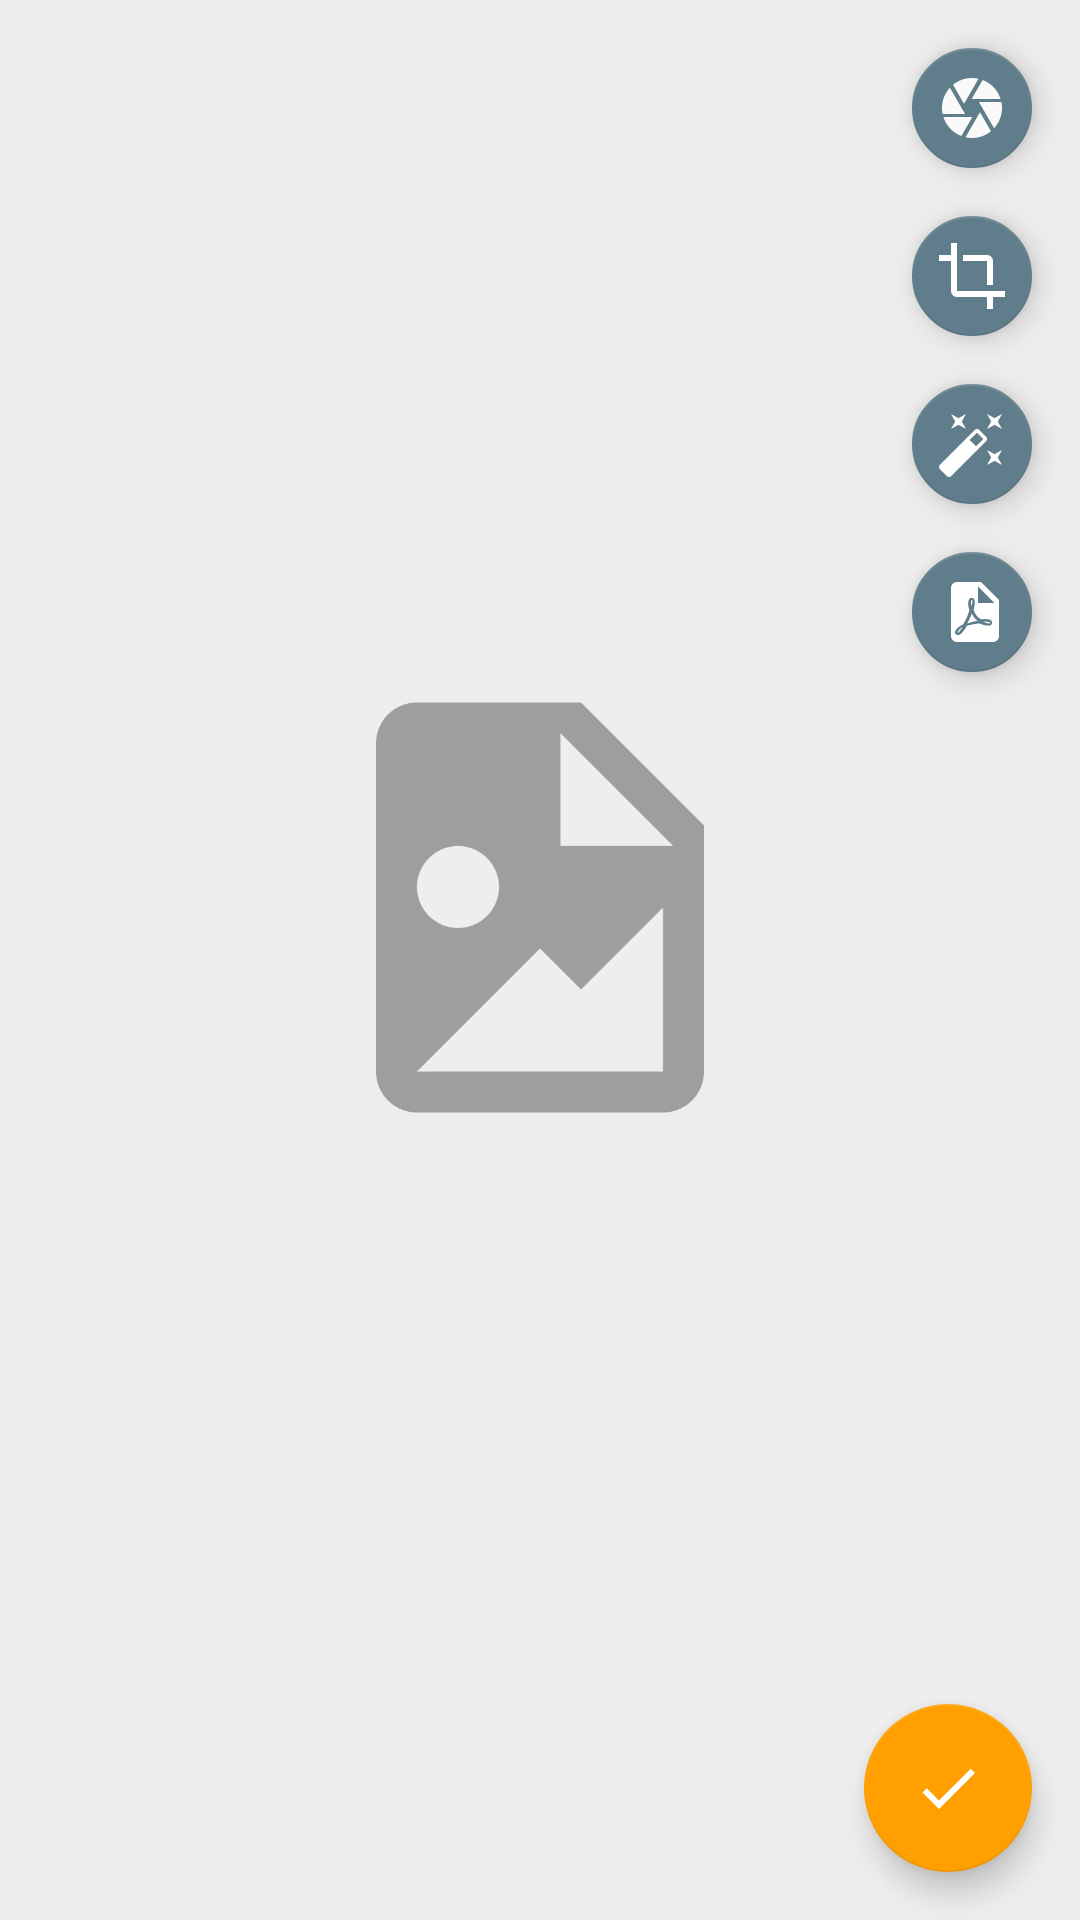

Icons on this 1080px×1920px Android screen, each with its box as bbox=(x1, y1, x2, y2):
auto fix: bbox=(912, 384, 1032, 504)
camera iris: bbox=(912, 48, 1032, 168)
check: bbox=(864, 1704, 1032, 1872)
crop: bbox=(912, 216, 1032, 336)
